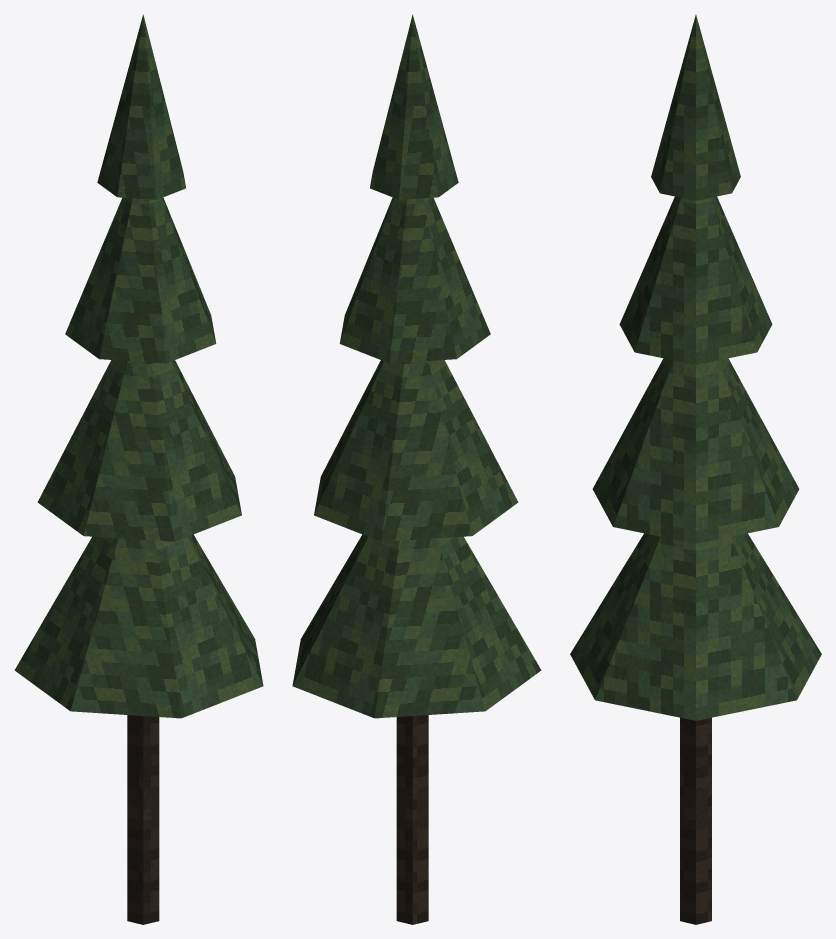
File: ENV_C_TreeCypress.fbx
3 renders of one model, left to right at view 1: azimuth 30°, elevation 25°; view 2: azimuth 150°, elevation 25°; view 3: azimuth 270°, elevation 25°, orthographic.
Parts seen in each view (by area): view 1: ENV_C_TreeCypress; view 2: ENV_C_TreeCypress; view 3: ENV_C_TreeCypress.
Boxes of the visible parts, bbox=[...] form: ENV_C_TreeCypress: bbox=[14, 14, 263, 924]; ENV_C_TreeCypress: bbox=[292, 14, 541, 924]; ENV_C_TreeCypress: bbox=[570, 15, 821, 924].
Size of the model in its own units: 266 by 1080 by 273.
Materials: 2 (2 with a texture image).
